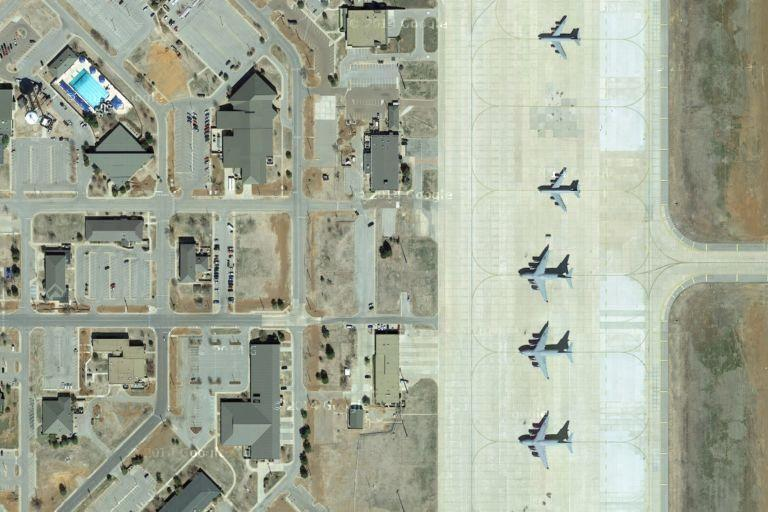C-17: (513, 411, 577, 471), (514, 322, 577, 382), (515, 246, 578, 301)
KC-135: (535, 13, 586, 62), (537, 165, 584, 214)
